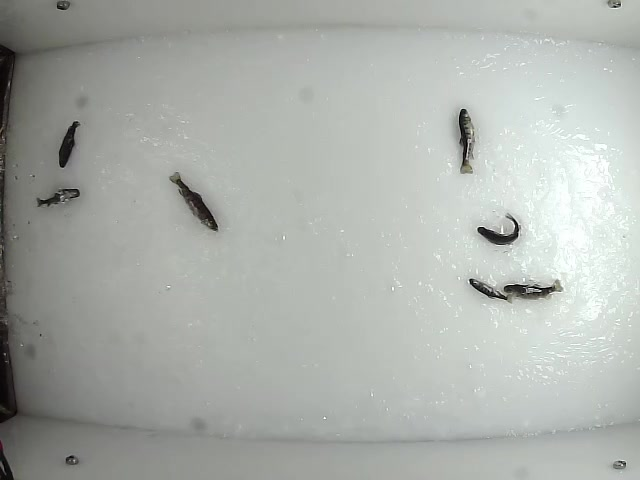fish: (166, 168, 221, 235), (475, 209, 521, 247), (465, 275, 521, 303), (502, 277, 563, 301), (456, 106, 476, 176), (56, 119, 81, 170), (34, 185, 83, 209)
